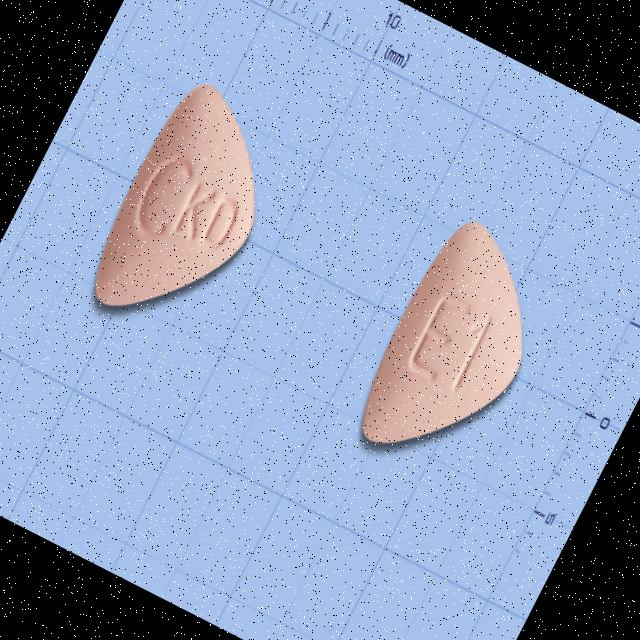Entecabell: (74, 70, 304, 352), (343, 209, 571, 488)
